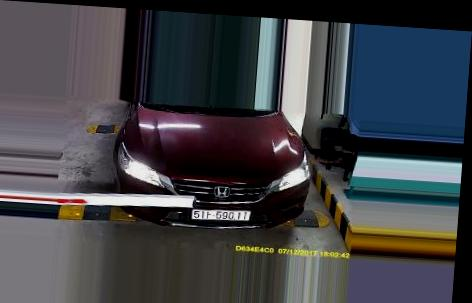License_Plate: (192, 206, 252, 225)
